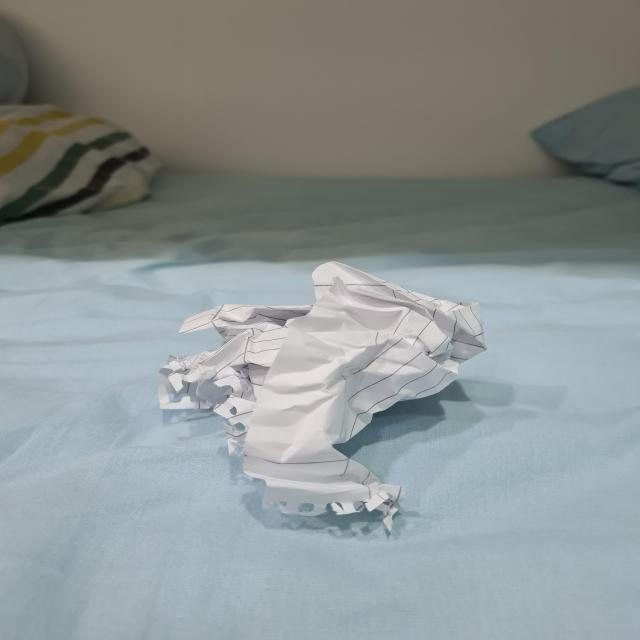trash: (166, 258, 490, 522)
